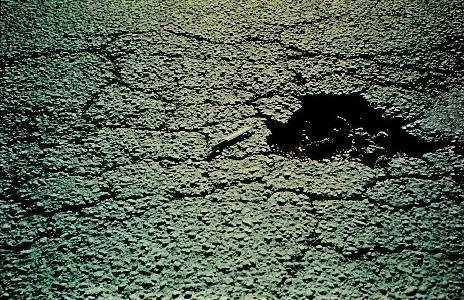pothole: (262, 85, 452, 172)
